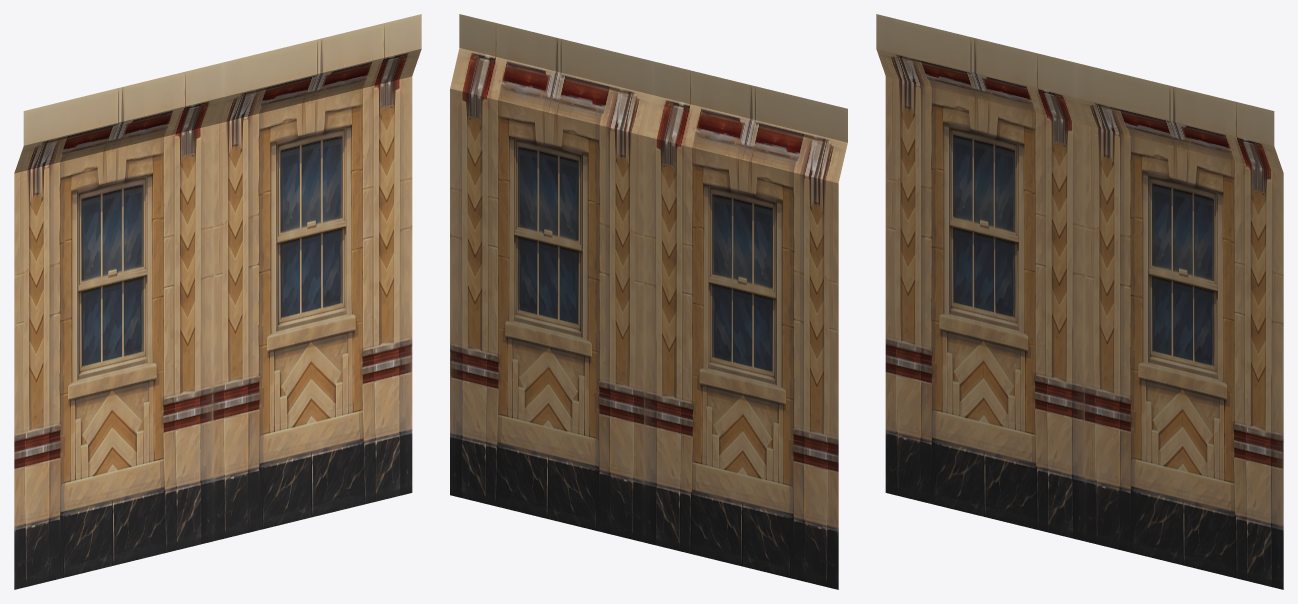
File: DECO_U_Bay3B.fbx
The picture shows the model from 3 angles, left to right: view 1: azimuth 30°, elevation 25°; view 2: azimuth 150°, elevation 25°; view 3: azimuth 330°, elevation 25°; orthographic projection. The views are drawn at different scales.
Visible parts, largest first — view 1: DECO_U_Bay3B; view 2: DECO_U_Bay3B; view 3: DECO_U_Bay3B.
Part boxes in pixels (x1,y1,x2,y2): DECO_U_Bay3B: (14, 14, 421, 589); DECO_U_Bay3B: (450, 14, 847, 589); DECO_U_Bay3B: (876, 14, 1283, 589).
Bounding box in the file's own units: 3 × 0.125 × 3.5.
Materials: 1 (1 with a texture image).
